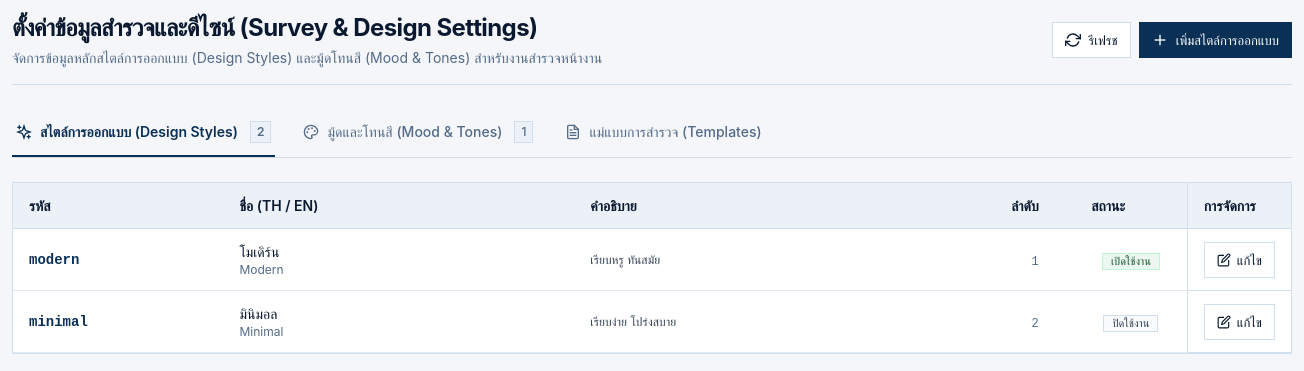
SurveyMasterDataManager › switches to mood tones tab and displays color swatches
This screenshot has width=1304, height=371.
Step 1. Click the button "มู้ดและโทนสี (Mood & Tones) 1" → (418, 133), box [300,109,537,157]
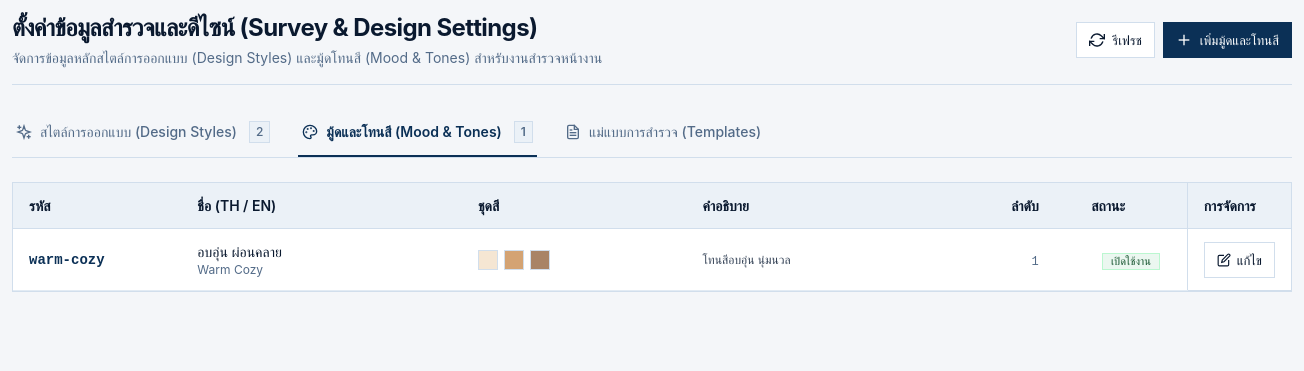
Now the text "warm-cozy" is shown, box [29,252,105,268]
Now the text "อบอุ่น ผ่อนคลาย" is shown, box [197,243,282,260]
Now the text "Warm Cozy" is shown, box [197,262,263,277]
